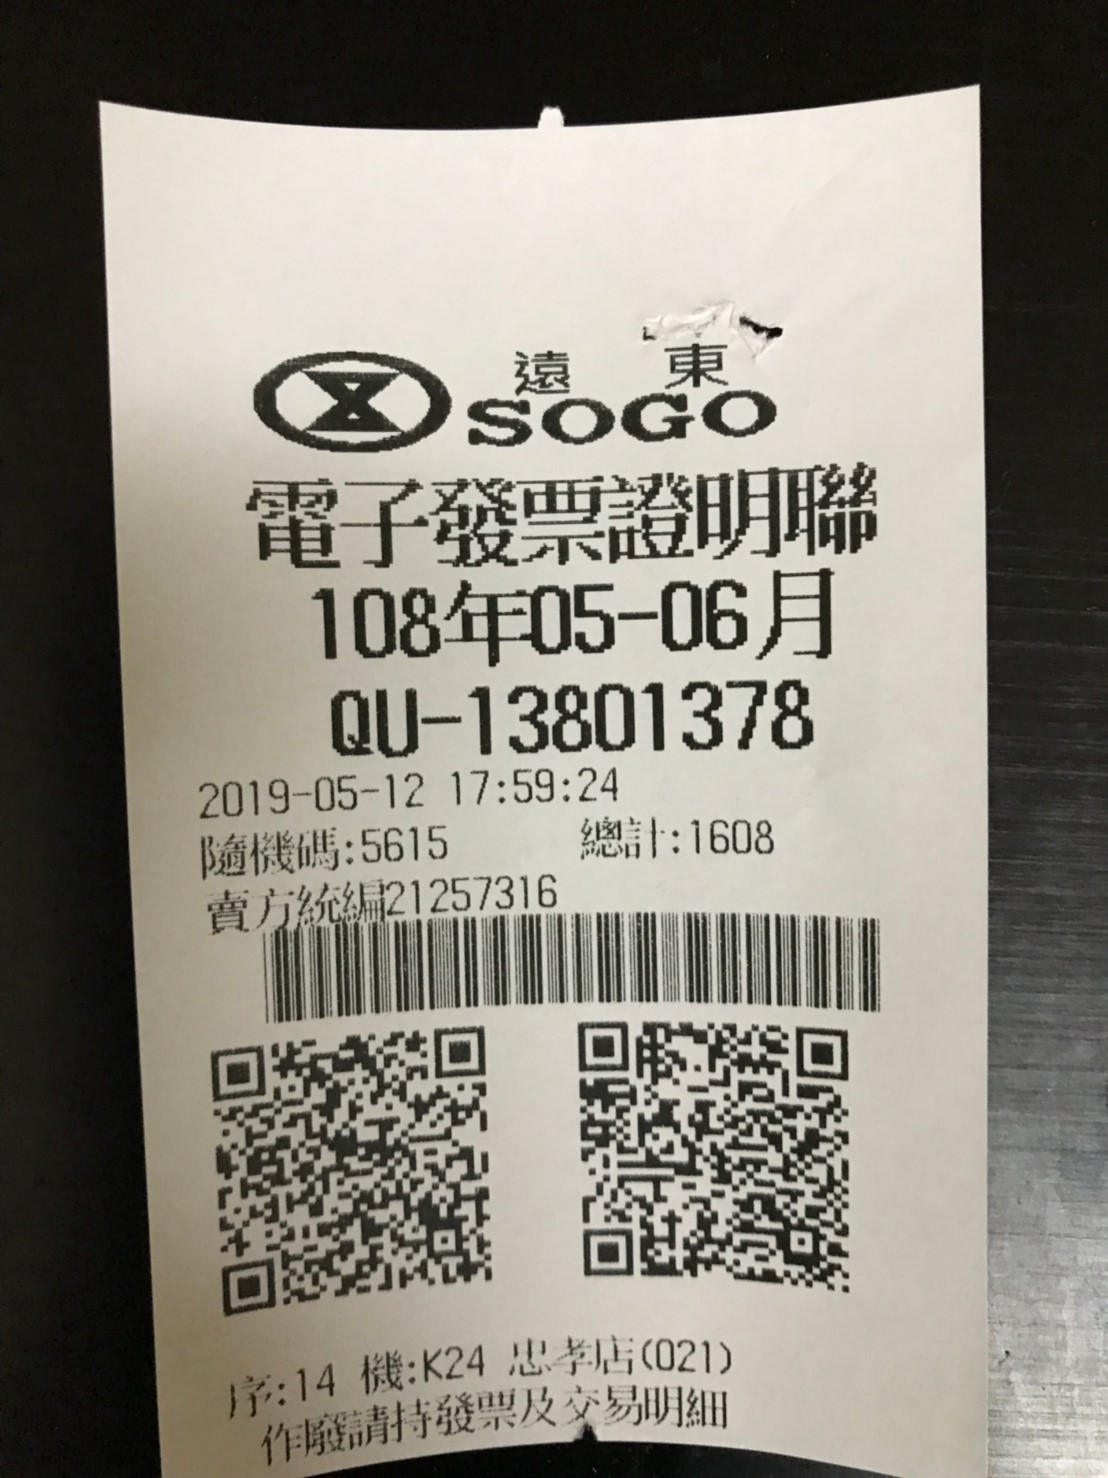Date_New: (312, 568, 841, 667)
Number_New: (469, 678, 818, 754)
